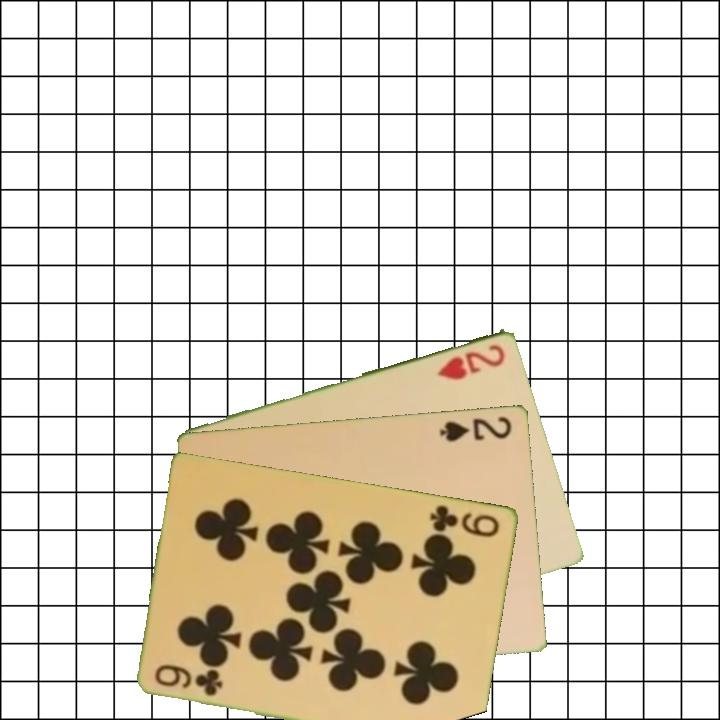2h: (433, 340, 509, 383)
2s: (436, 412, 515, 444)
9c: (427, 501, 503, 540), (151, 661, 226, 699)
